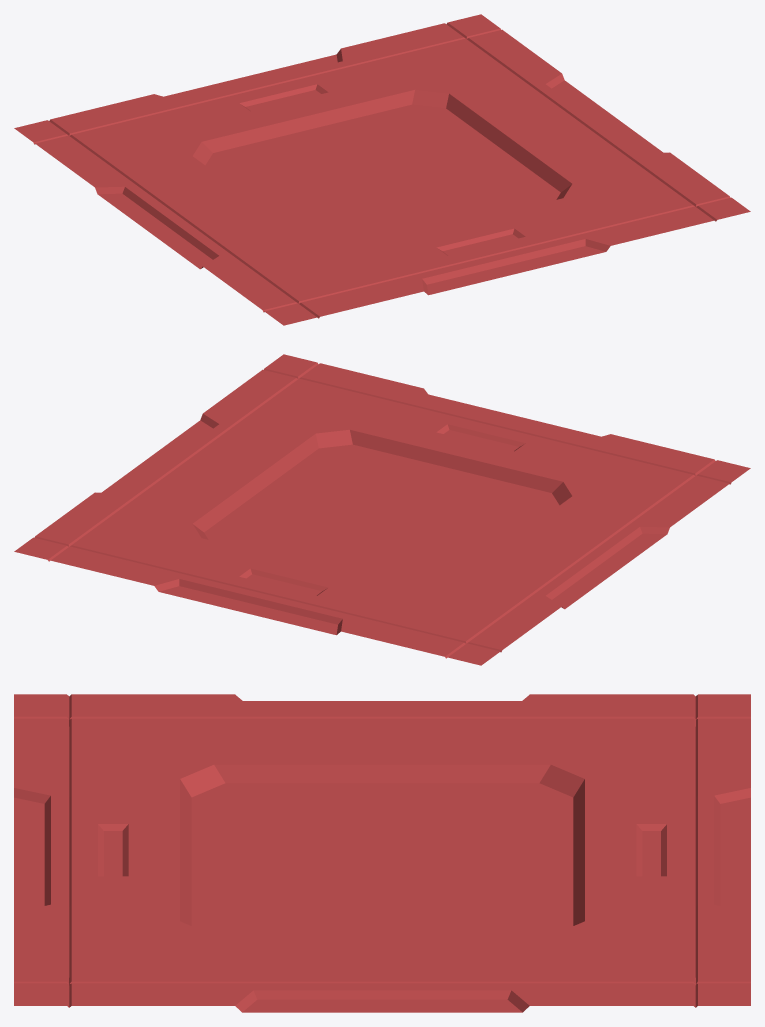
The model's file is SM_VALVE_ROOF_4M.fbx.
3 renders of one model, top to bottom at view 1: azimuth 30°, elevation 25°; view 2: azimuth 150°, elevation 25°; view 3: azimuth 270°, elevation 25°, orthographic. The views are drawn at different scales.
Parts seen in each view (by area): view 1: SM_VALVE_ROOF_4M; view 2: SM_VALVE_ROOF_4M; view 3: SM_VALVE_ROOF_4M.
Boxes of the visible parts, x1,y1,x2,y2 form: SM_VALVE_ROOF_4M: (14, 14, 750, 325); SM_VALVE_ROOF_4M: (14, 354, 750, 665); SM_VALVE_ROOF_4M: (14, 694, 750, 1012).
Bounding box in the file's own units: 4 × 0.082 × 4.
